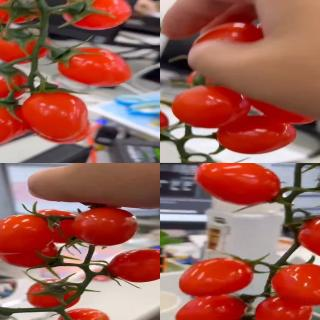tomato: (194, 163, 281, 205), (210, 114, 299, 155), (171, 81, 248, 128), (22, 91, 90, 142), (56, 46, 134, 86), (179, 257, 256, 297), (72, 206, 138, 247), (0, 214, 54, 255), (59, 0, 131, 30), (273, 261, 320, 305), (28, 208, 83, 245), (0, 28, 52, 66), (106, 247, 160, 282), (0, 240, 63, 269), (177, 294, 247, 320), (27, 282, 82, 312), (0, 100, 32, 148), (256, 295, 314, 320), (296, 215, 320, 264), (0, 64, 29, 101), (0, 0, 41, 26), (55, 308, 112, 320), (207, 313, 260, 320)
